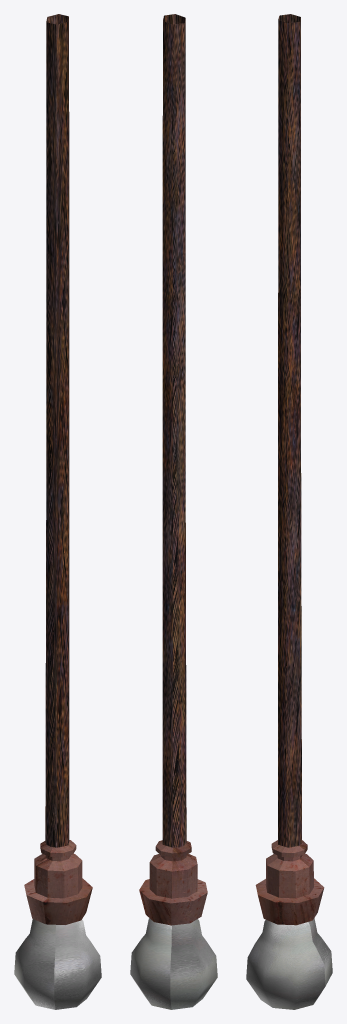
Rendered from Lamp.FBX.
3 renders of one model, left to right at view 1: azimuth 30°, elevation 25°; view 2: azimuth 210°, elevation 25°; view 3: azimuth 270°, elevation 25°, orthographic.
Visible parts, largest first — view 1: Object002; view 2: Object002; view 3: Object002.
Part boxes in pixels (<box>): Object002: <box>14,14,101,1009</box>; Object002: <box>130,14,217,1009</box>; Object002: <box>246,14,332,1009</box>.
Bounding box in the file's own units: 159 × 2005 × 159.
1 material, 1 textured.
